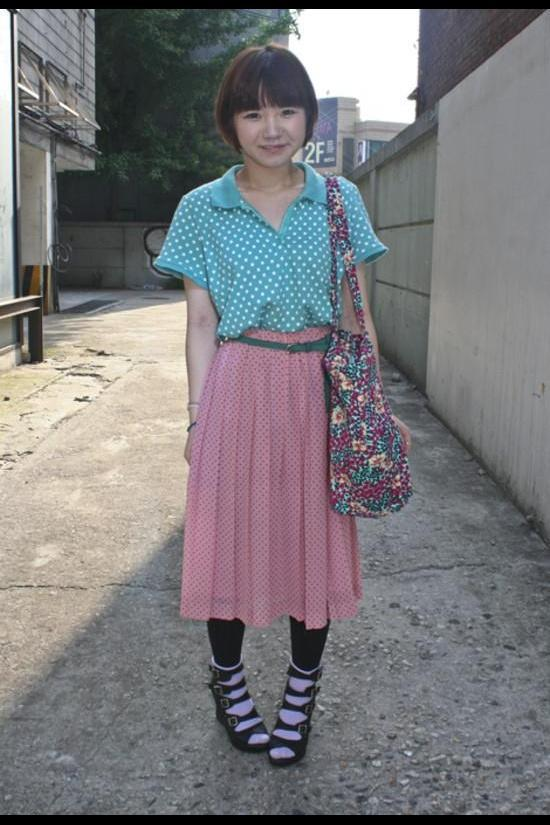Tshirt: (156, 162, 386, 337)
skirt: (179, 325, 361, 627)
